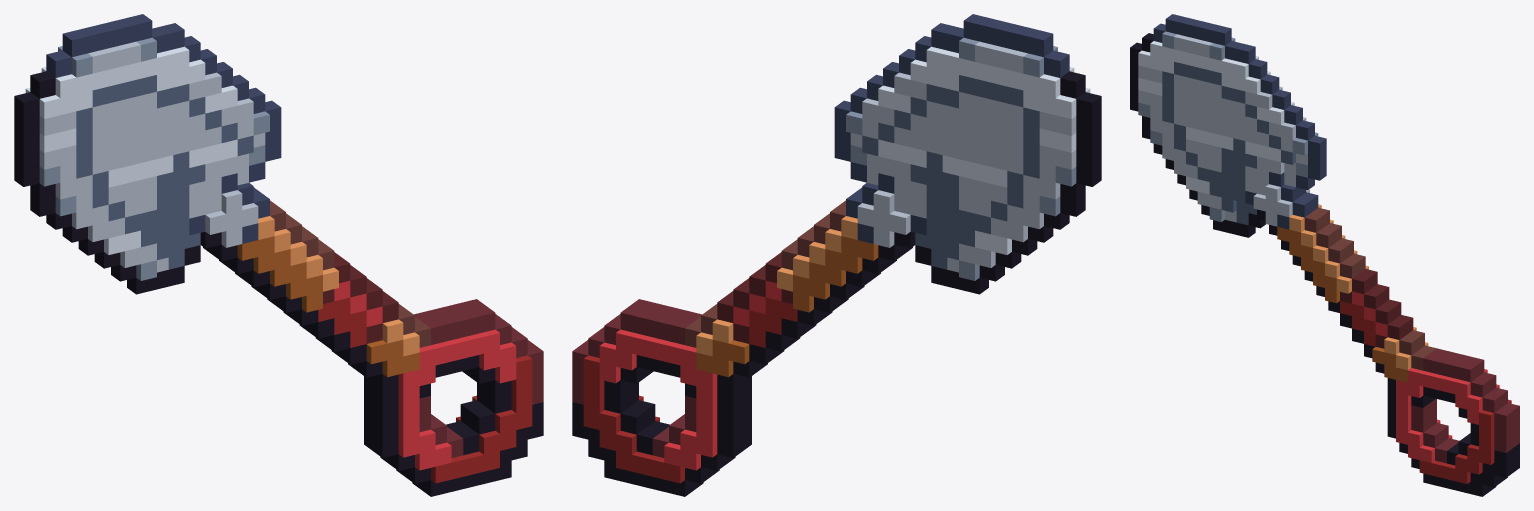
Rendered from Silver_Shovel.fbx.
3 renders of one model, left to right at view 1: azimuth 30°, elevation 25°; view 2: azimuth 150°, elevation 25°; view 3: azimuth 330°, elevation 25°, orthographic. The views are drawn at different scales.
Visible parts, largest first — view 1: generated; view 2: generated; view 3: generated.
Boxes of the visible parts, bbox=[...] form: generated: bbox=[14, 14, 543, 496]; generated: bbox=[572, 14, 1101, 496]; generated: bbox=[1130, 14, 1519, 496].
Size of the model in its own units: 9.6 by 9.6 by 0.9.
